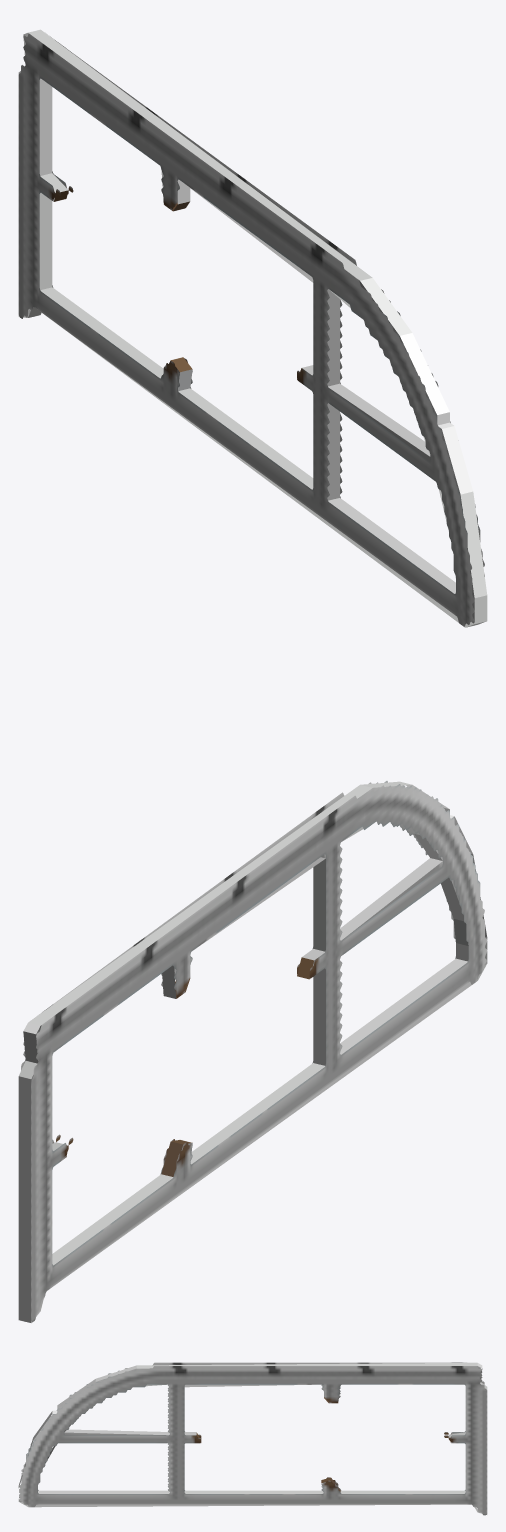
Rendered from pz_native_fixtures_windows_white_60_frame.obj.
3 renders of one model, top to bottom at view 1: azimuth 30°, elevation 25°; view 2: azimuth 150°, elevation 25°; view 3: azimuth 270°, elevation 25°, orthographic. The views are drawn at different scales.
Parts seen in each view (by area): view 1: pz_native_fixtures_windows_white_60_frame; view 2: pz_native_fixtures_windows_white_60_frame; view 3: pz_native_fixtures_windows_white_60_frame.
Boxes of the visible parts, x1=… form: pz_native_fixtures_windows_white_60_frame: x1=18, y1=29, x2=487, y2=627; pz_native_fixtures_windows_white_60_frame: x1=18, y1=781, x2=487, y2=1322; pz_native_fixtures_windows_white_60_frame: x1=18, y1=1362, x2=487, y2=1515.
Bounding box in the file's own units: 0.04 × 0.9062 × 2.54.
Materials: 1 (1 with a texture image).
